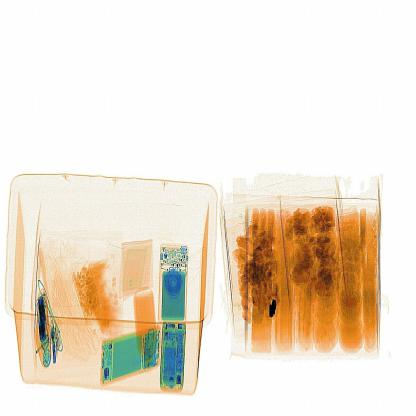knife: (258, 286, 290, 328)
